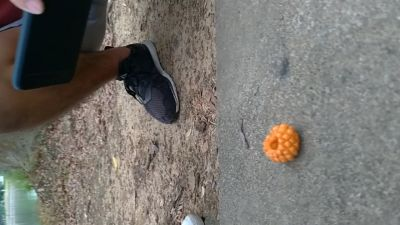eggs: (262, 123, 303, 163)
